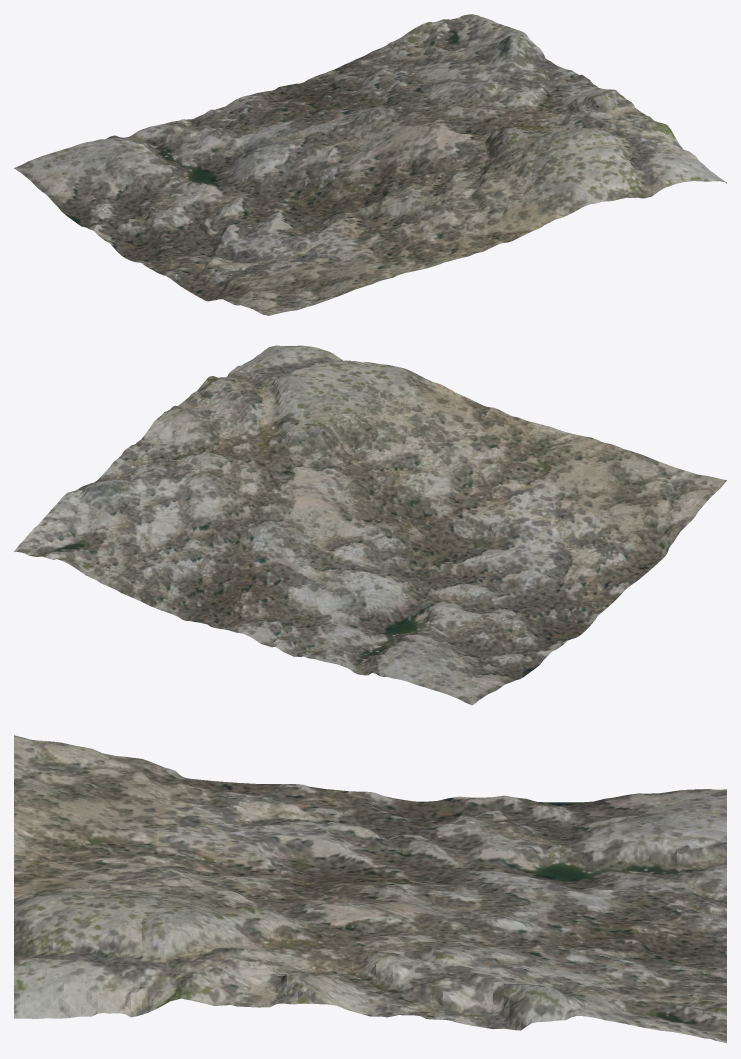
3 renders of one model, top to bottom at view 1: azimuth 30°, elevation 25°; view 2: azimuth 150°, elevation 25°; view 3: azimuth 270°, elevation 25°, orthographic. The views are drawn at different scales.
Bounding box in the file's own units: 500 × 104 × 481.
Materials: 1 (1 with a texture image).
